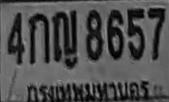4: (6, 11, 24, 64)
5: (127, 8, 144, 58)
6: (106, 9, 124, 59)
7: (147, 8, 165, 59)
8: (85, 10, 102, 60)
A01: (28, 12, 49, 64)
A13: (53, 9, 79, 68)
BKK: (22, 75, 150, 102)
